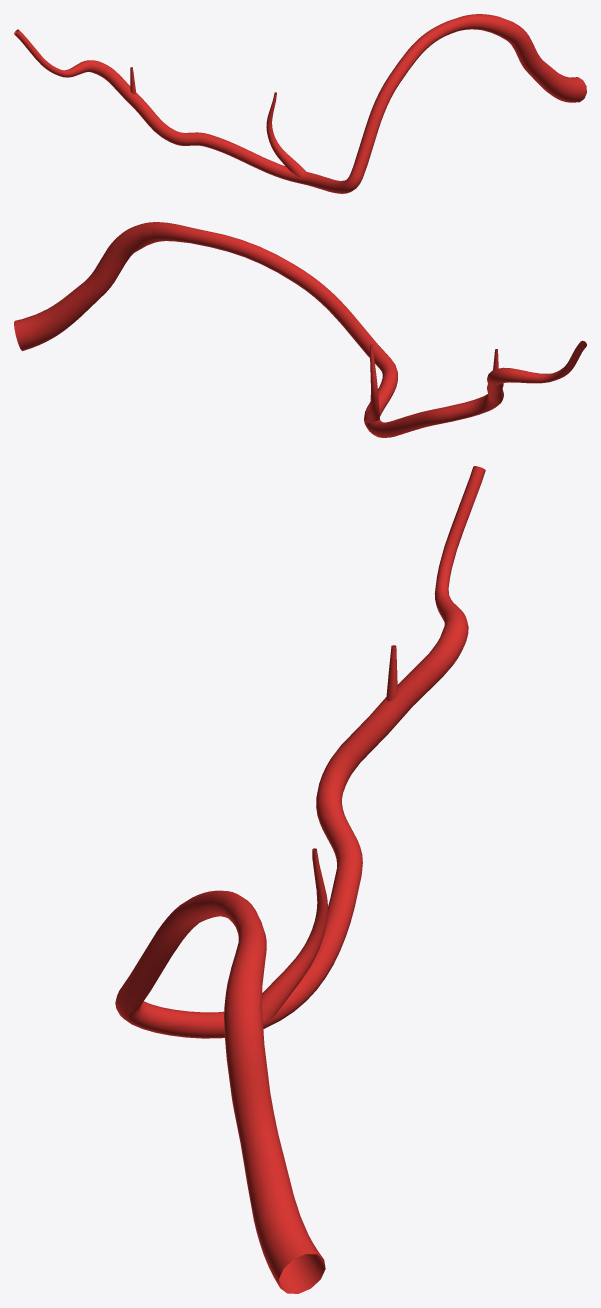
The model's file is circulatorio-proper-hepatic-artery.glb.
3 renders of one model, top to bottom at view 1: azimuth 30°, elevation 25°; view 2: azimuth 150°, elevation 25°; view 3: azimuth 270°, elevation 25°, orthographic. The views are drawn at different scales.
Parts seen in each view (by area): view 1: Proper hepatic artery; view 2: Proper hepatic artery; view 3: Proper hepatic artery.
Part boxes in pixels (x1=…): Proper hepatic artery: x1=14, y1=14, x2=586, y2=193; Proper hepatic artery: x1=14, y1=222, x2=586, y2=437; Proper hepatic artery: x1=115, y1=466, x2=485, y2=1293.
Bounding box in the file's own units: 0.0921 × 0.0285 × 0.0282.
